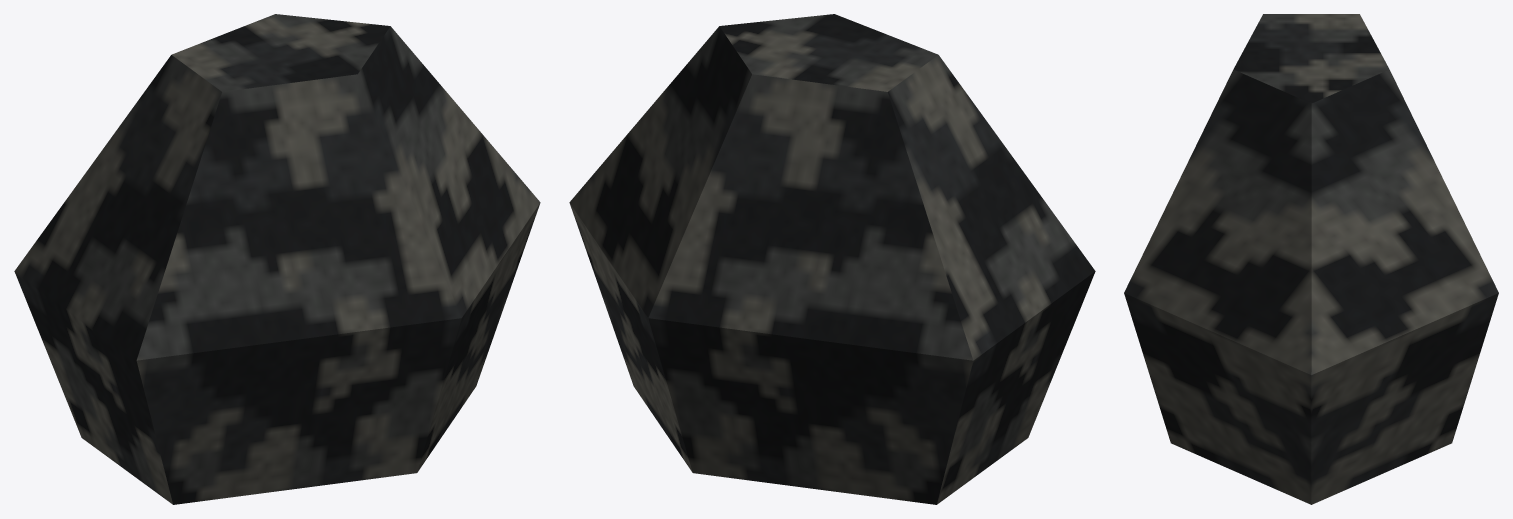
The model's file is ENV_F_Rock_0.fbx.
3 views of the same model, side by side, from view 1: azimuth 30°, elevation 25°; view 2: azimuth 150°, elevation 25°; view 3: azimuth 270°, elevation 25° (orthographic). The views are drawn at different scales.
Parts seen in each view (by area): view 1: PL_ENV_F_Rock_0; view 2: PL_ENV_F_Rock_0; view 3: PL_ENV_F_Rock_0.
Part boxes in pixels (box(x1,y1,x2,y2)): PL_ENV_F_Rock_0: box(14, 14, 540, 504); PL_ENV_F_Rock_0: box(569, 14, 1095, 504); PL_ENV_F_Rock_0: box(1124, 14, 1498, 504).
Bounding box in the file's own units: 217 × 170 × 160.
Materials: 1 (1 with a texture image).
